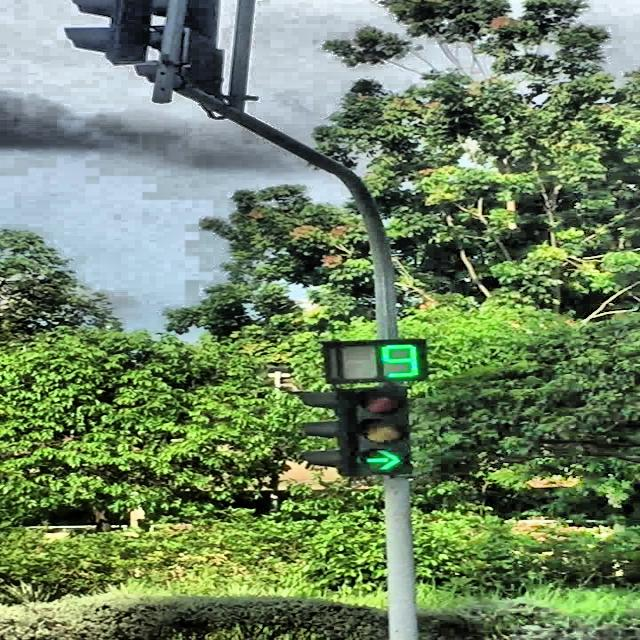green: (356, 384, 412, 474)
